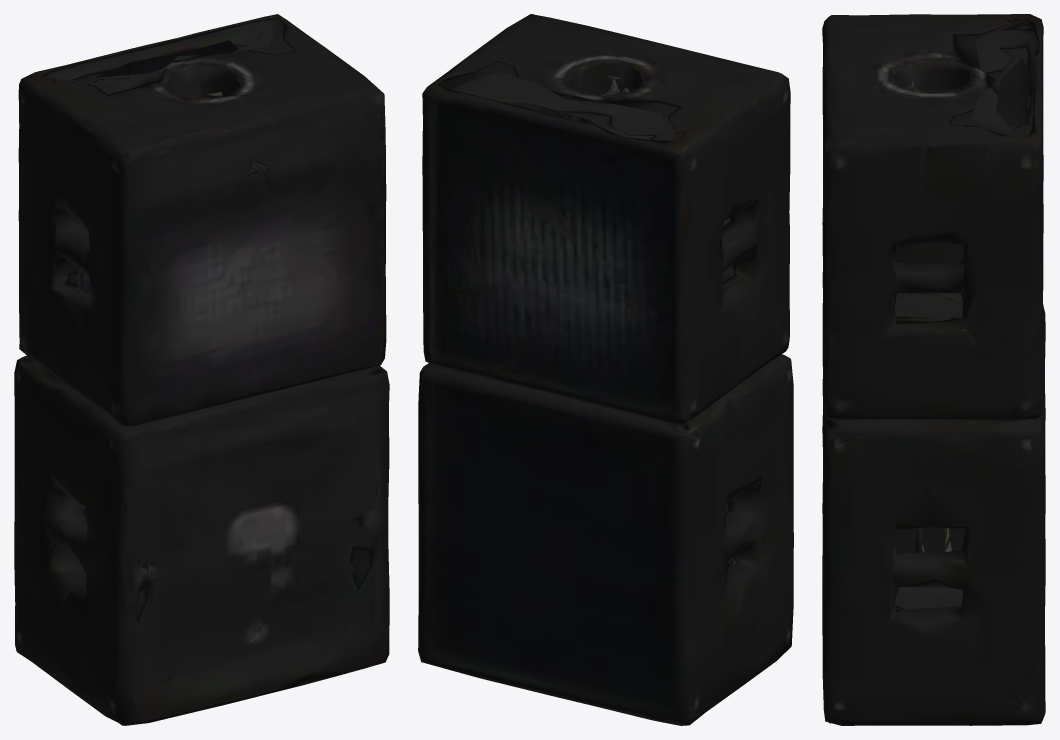
File: sub-stack-s1.lo.glb
3 views of the same model, side by side, from view 1: azimuth 30°, elevation 25°; view 2: azimuth 150°, elevation 25°; view 3: azimuth 270°, elevation 25° (orthographic).
Visible parts, largest first — view 1: geometry_0; view 2: geometry_0; view 3: geometry_0.
Part boxes in pixels (box(x1,y1,x2,y2)): geometry_0: box(14, 14, 389, 725); geometry_0: box(418, 14, 793, 725); geometry_0: box(822, 14, 1045, 725).
Bounding box in the file's own units: 0.4966 × 0.9997 × 0.3443.
Materials: 1 (1 with a texture image).
